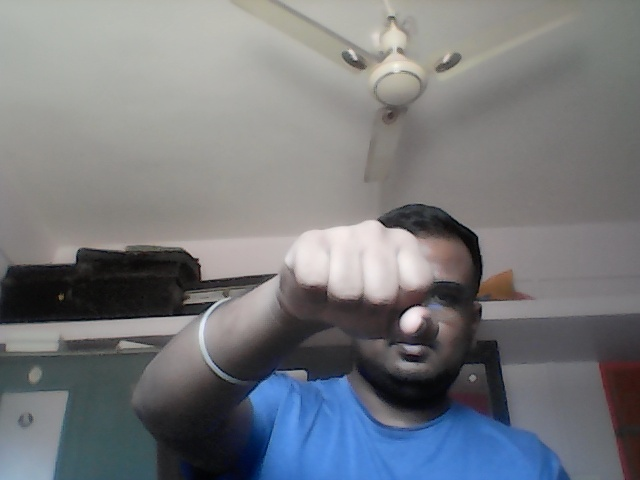Yes: (279, 216, 441, 350)
